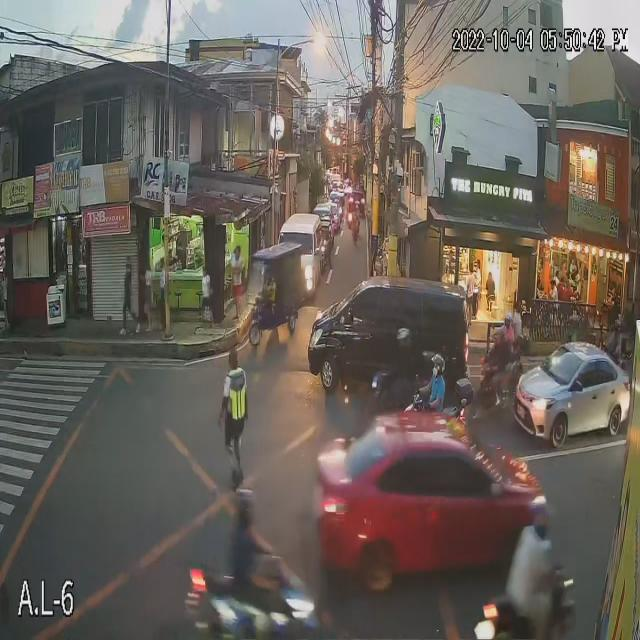helmet: (521, 496, 555, 540), (226, 489, 264, 524), (422, 354, 452, 386), (392, 328, 409, 349), (499, 312, 517, 330), (568, 313, 586, 330), (490, 329, 506, 348)
motorcycle: (180, 558, 310, 640), (380, 398, 470, 480), (466, 581, 582, 640), (371, 370, 434, 424), (478, 348, 522, 393), (471, 369, 516, 413)
rider: (222, 522, 273, 608), (504, 536, 556, 606), (410, 375, 454, 450), (396, 344, 418, 388), (500, 326, 520, 364), (561, 328, 583, 357), (488, 346, 509, 376)
